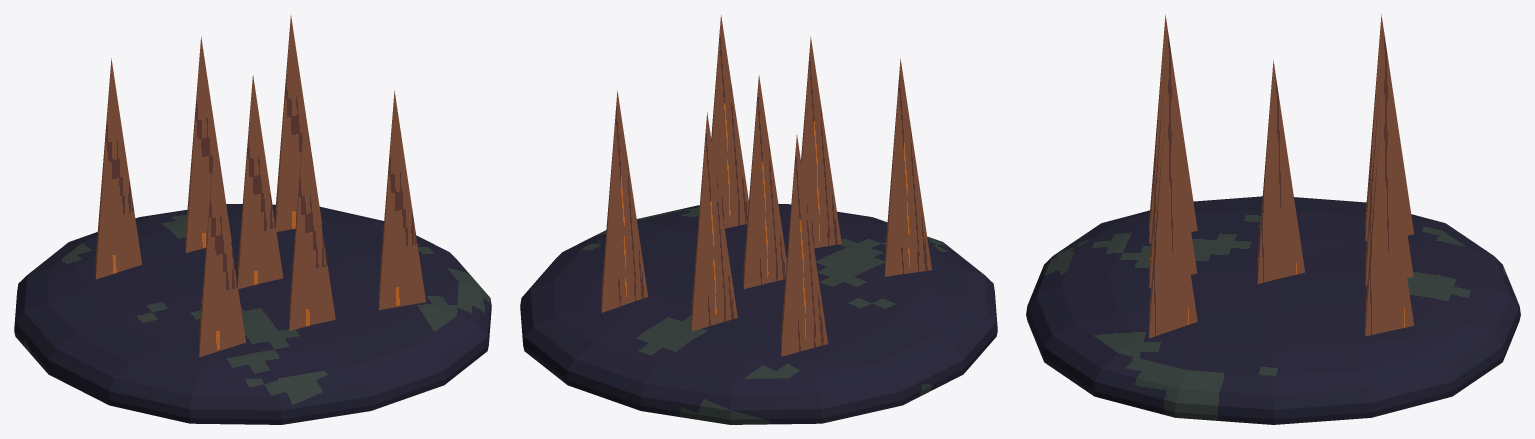
The model's file is PrototypeRooster.obj.
The picture shows the model from 3 angles, left to right: view 1: azimuth 30°, elevation 25°; view 2: azimuth 150°, elevation 25°; view 3: azimuth 270°, elevation 25°; orthographic projection. The views are drawn at different scales.
Parts seen in each view (by area): view 1: Base.004, Cone.014, Cone.015, Cone.017, Cone.016, Cone.020, Cone.018, Cone.019; view 2: Base.004, Cone.017, Cone.014, Cone.018, Cone.019, Cone.020, Cone.016, Cone.015; view 3: Base.004, Cone.018, Cone.015, Cone.020, Cone.017, Cone.014, Cone.019, Cone.016.
Boxes of the visible parts, bbox=[...] form: Base.004: bbox=[14, 204, 491, 424]; Cone.014: bbox=[199, 134, 245, 357]; Cone.015: bbox=[379, 90, 425, 310]; Cone.017: bbox=[95, 58, 142, 279]; Cone.016: bbox=[289, 112, 335, 330]; Cone.020: bbox=[237, 75, 283, 289]; Cone.018: bbox=[275, 15, 321, 231]; Cone.019: bbox=[185, 36, 231, 252]; Base.004: bbox=[520, 204, 997, 424]; Cone.017: bbox=[781, 135, 828, 356]; Cone.014: bbox=[885, 58, 931, 276]; Cone.018: bbox=[601, 90, 648, 312]; Cone.019: bbox=[691, 112, 737, 331]; Cone.020: bbox=[743, 75, 786, 288]; Cone.016: bbox=[801, 36, 841, 248]; Cone.015: bbox=[711, 15, 748, 228]; Base.004: bbox=[1026, 196, 1520, 424]; Cone.018: bbox=[1365, 105, 1414, 336]; Cone.015: bbox=[1149, 106, 1197, 338]; Cone.020: bbox=[1257, 60, 1304, 284]; Cone.017: bbox=[1365, 14, 1414, 241]; Cone.014: bbox=[1149, 14, 1197, 243]; Cone.019: bbox=[1365, 60, 1413, 285]; Cone.016: bbox=[1149, 60, 1197, 287].
Size of the model in its own units: 0.9167 by 0.5491 by 0.9167.
